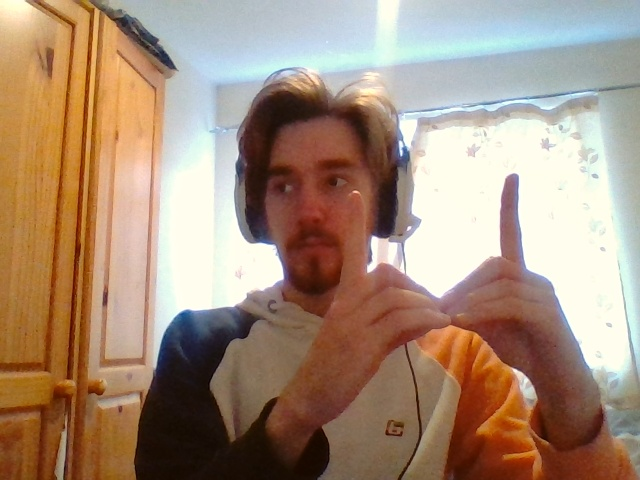meet: (335, 170, 536, 324)
